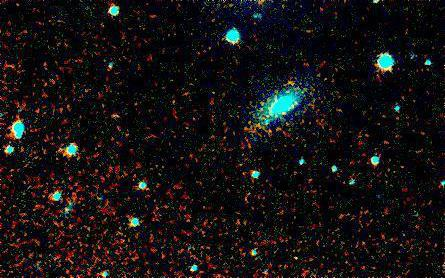star: (280, 244, 310, 274)
